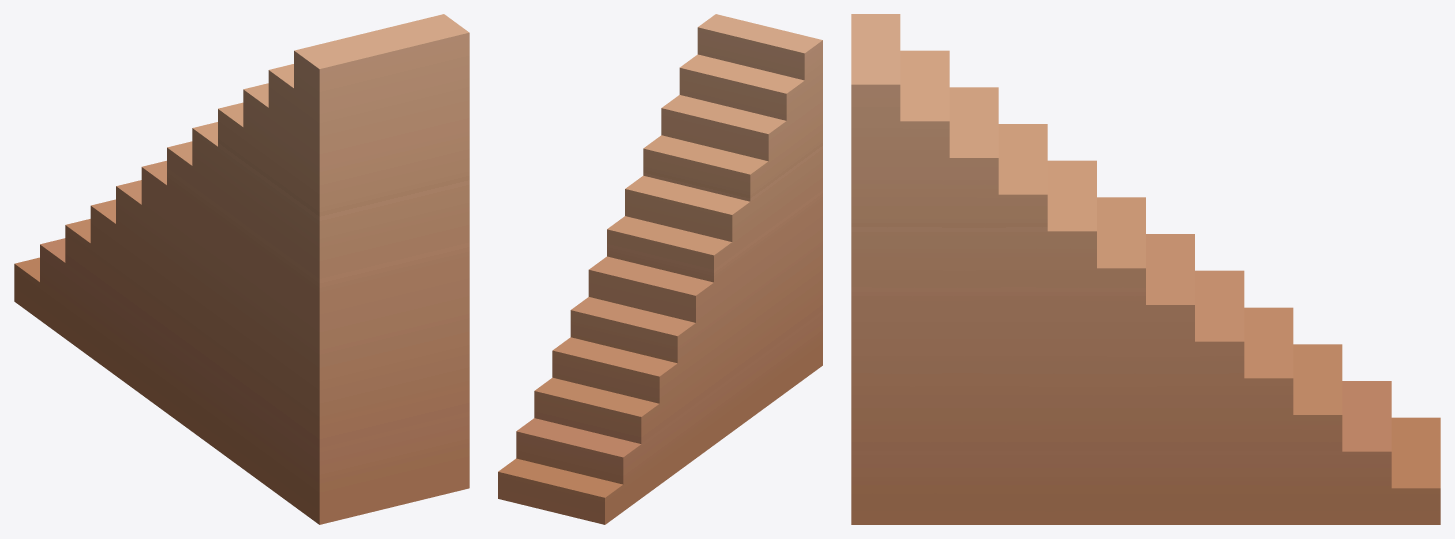
The model's file is stairs-stone-square.glb.
3 renders of one model, left to right at view 1: azimuth 30°, elevation 25°; view 2: azimuth 150°, elevation 25°; view 3: azimuth 270°, elevation 25°, orthographic. The views are drawn at different scales.
Parts seen in each view (by area): view 1: stairs-stone-square; view 2: stairs-stone-square; view 3: stairs-stone-square.
Boxes of the visible parts, <box> form: stairs-stone-square: <box>14,14,469,524</box>; stairs-stone-square: <box>498,14,822,524</box>; stairs-stone-square: <box>851,14,1440,524</box>.
Bounding box in the file's own units: 0.2325 × 0.675 × 0.819.
Materials: 1 (1 with a texture image).
